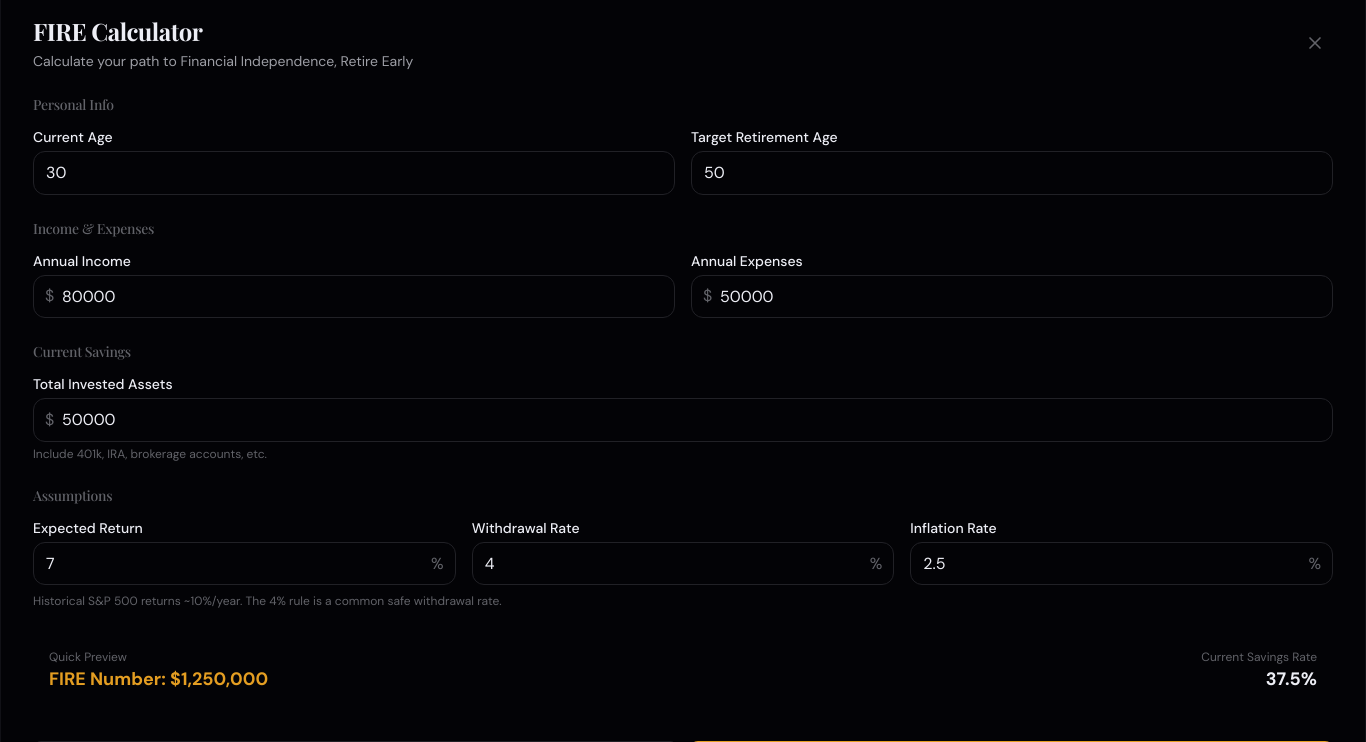
Test: Assessment Edge Cases › FIRECalculator Edge Cases › handles retirement age equal to current age
The image size is (1366, 742).
Replace the text in the number field showing "50" below "Target Retirement Age" with "30": (1012, 173) [691,151,1333,195]
(page scrolled)
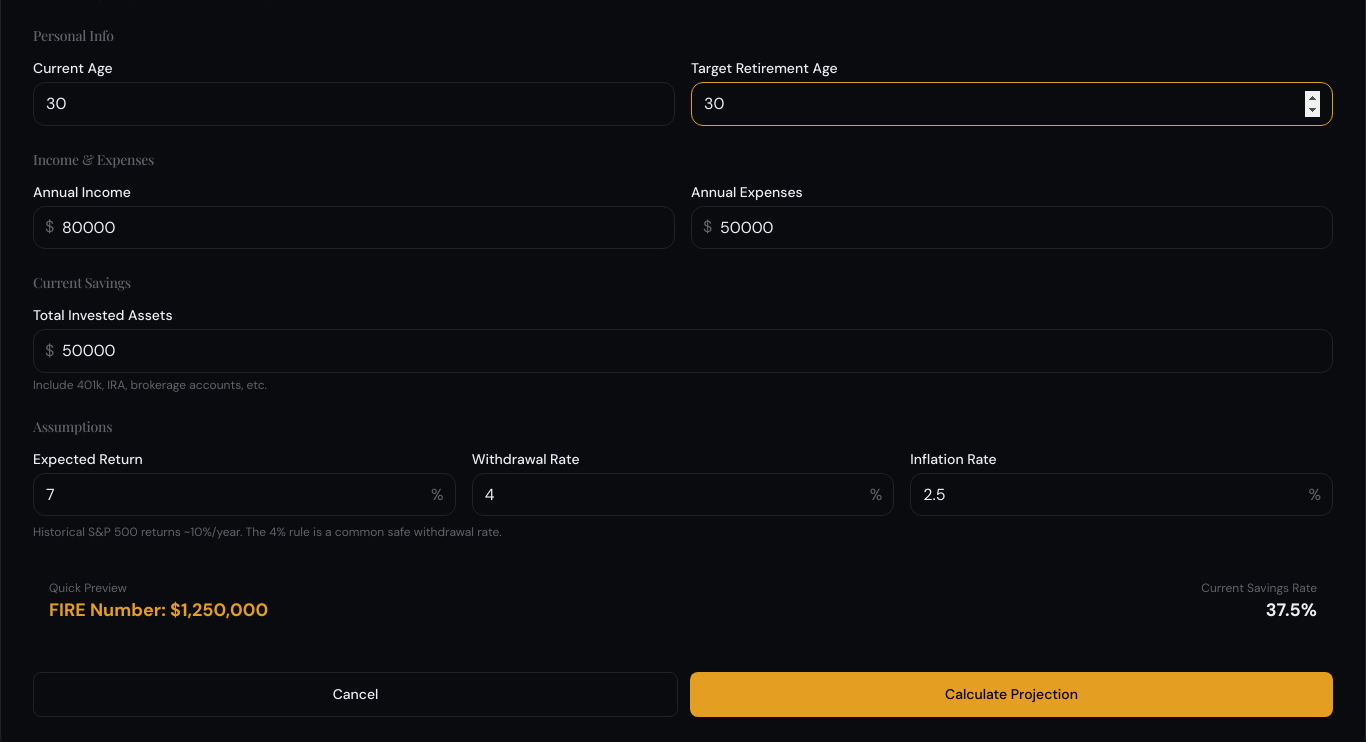
Click the button "Calculate Projection": (1012, 695) [690,672,1333,717]
(page scrolled)
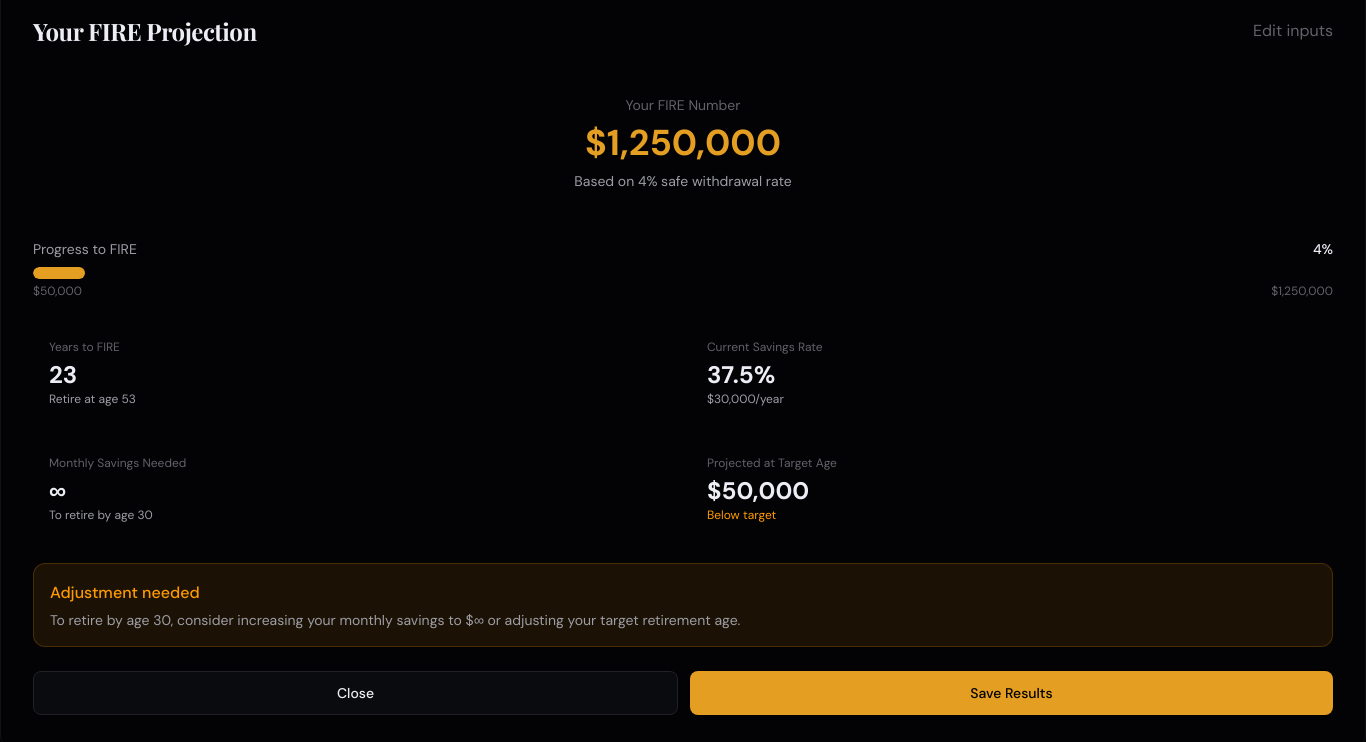
expect the heading "Your FIRE Projection" is shown: met, box [33,15,257,47]
